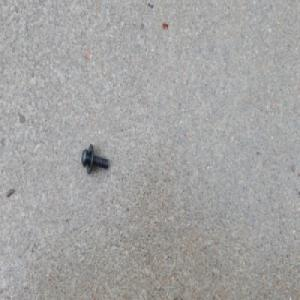BoltWasher: (80, 143, 109, 176)
